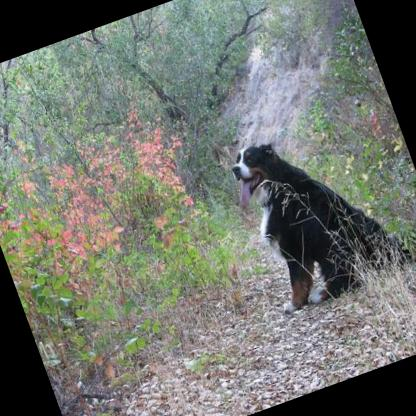Bernese_mountain_dog: (217, 98, 416, 316)
